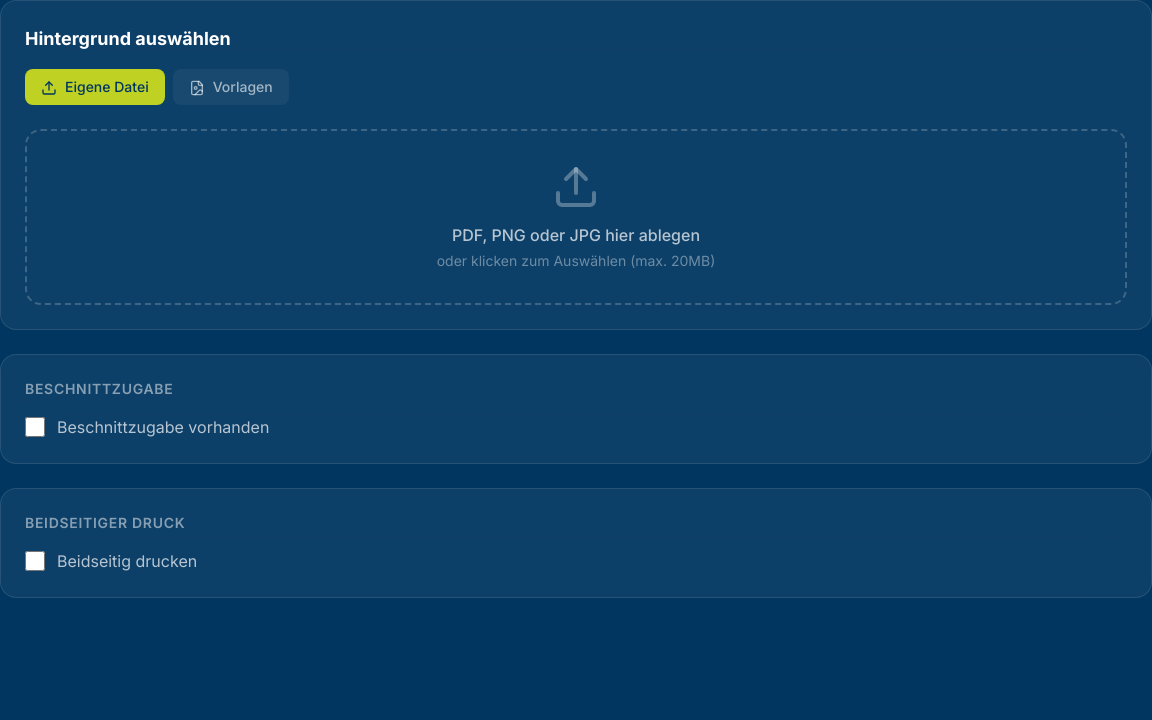
Test: BackgroundSelector › Beschnittzugabe-Checkbox zeigt Eingabefeld
Click the checkbox labelled "Beschnittzugabe vorhanden".
click(35, 427)  # box [25,417,45,437]
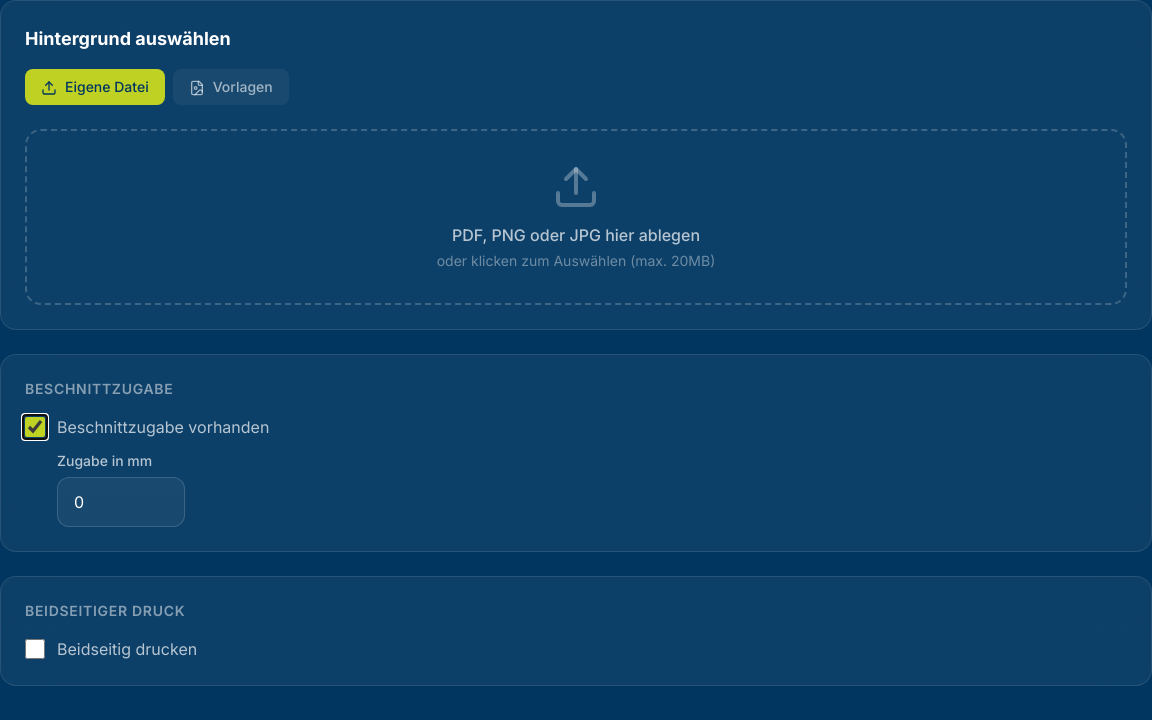
Expected: the text "Zugabe in mm" is shown, [57,452,152,469]
